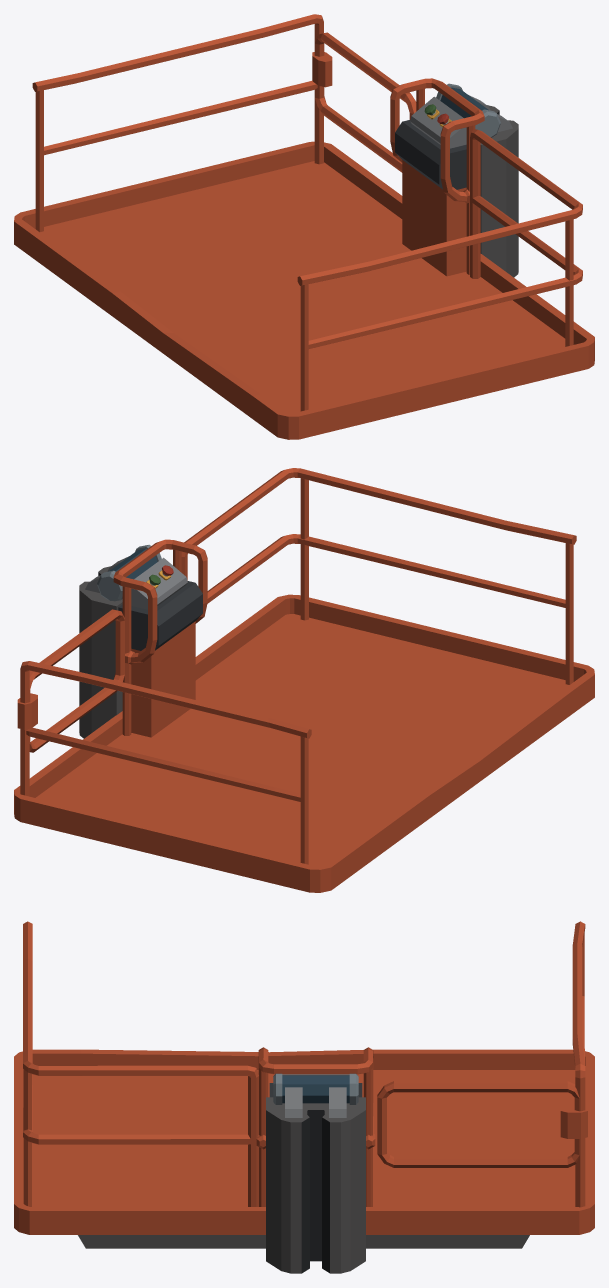
Rendered from Lift.fbx.
The picture shows the model from 3 angles, top to bottom: view 1: azimuth 30°, elevation 25°; view 2: azimuth 150°, elevation 25°; view 3: azimuth 270°, elevation 25°; orthographic projection. The views are drawn at different scales.
Visible parts, largest first — view 1: SM_Prop_Elevator_02, SM_Prop_Elevator_Door_02; view 2: SM_Prop_Elevator_02, SM_Prop_Elevator_Door_02; view 3: SM_Prop_Elevator_02, SM_Prop_Elevator_Door_02.
Part boxes in pixels (box(x1,y1,x2,y2)): SM_Prop_Elevator_02: box(14, 14, 594, 439); SM_Prop_Elevator_Door_02: box(315, 32, 416, 172); SM_Prop_Elevator_02: box(14, 468, 594, 892); SM_Prop_Elevator_Door_02: box(29, 609, 124, 752); SM_Prop_Elevator_02: box(14, 921, 594, 1273); SM_Prop_Elevator_Door_02: box(377, 1081, 579, 1167).
Size of the model in its own units: 252 by 117 by 332.
Materials: 1 (1 with a texture image).
